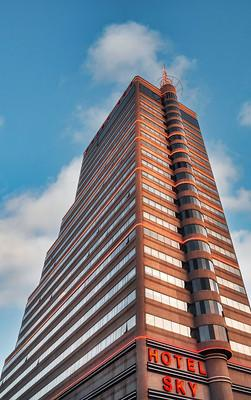building: (3, 63, 250, 400)
